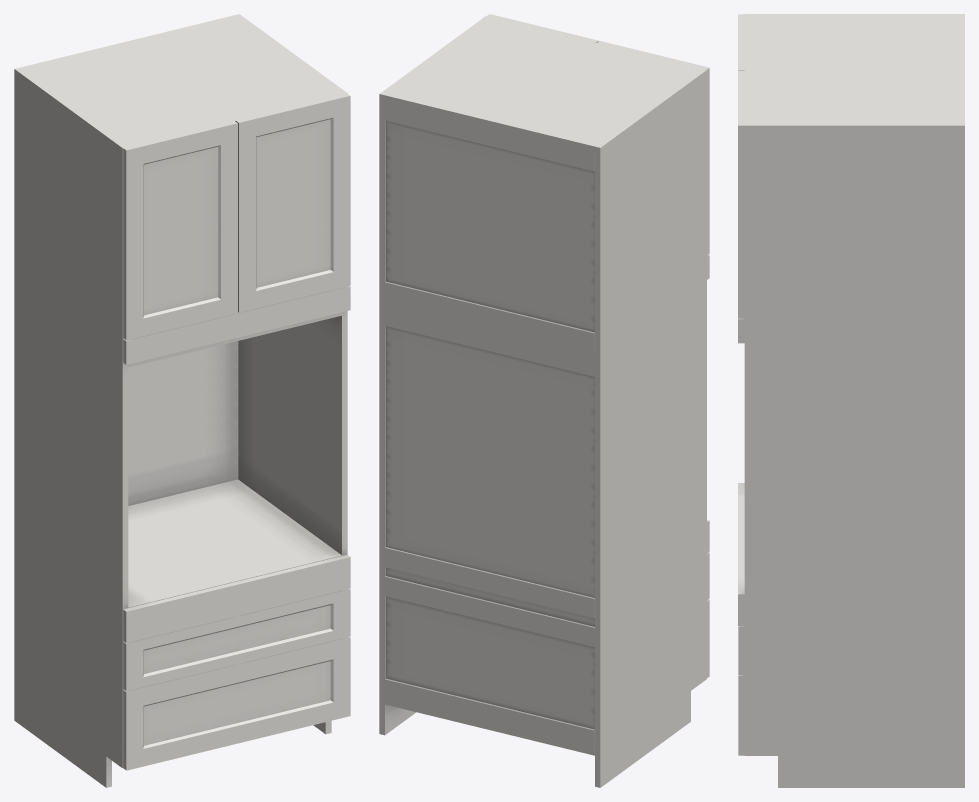
File: tall-wall-oven-2-drawer-doors-on.glb
3 views of the same model, side by side, from view 1: azimuth 30°, elevation 25°; view 2: azimuth 150°, elevation 25°; view 3: azimuth 270°, elevation 25° (orthographic). The views are drawn at different scales.
Parts seen in each view (by area): view 1: part_0, part_31; view 2: part_0, part_31; view 3: part_0, part_31.
Boxes of the visible parts, <box> form: part_0: <box>14,14,350,787</box>; part_31: <box>123,93,350,770</box>; part_0: <box>379,16,709,787</box>; part_31: <box>487,14,709,677</box>; part_0: <box>738,14,964,787</box>; part_31: <box>738,14,744,755</box>.
Bounding box in the file's own units: 0.7621 × 2.11 × 0.6543.
Materials: 3 (2 with a texture image).
